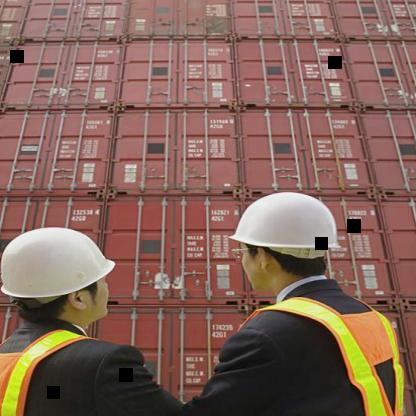helmet: (0, 220, 133, 340), (216, 184, 354, 298)
